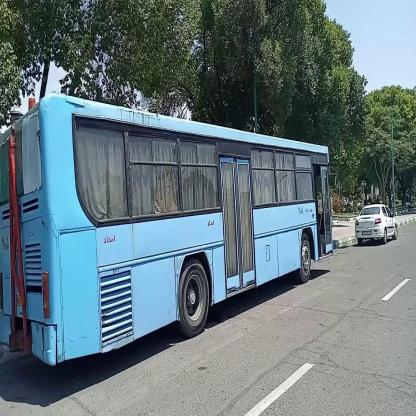Bus: (0, 87, 338, 372)
Car: (353, 194, 396, 252)
